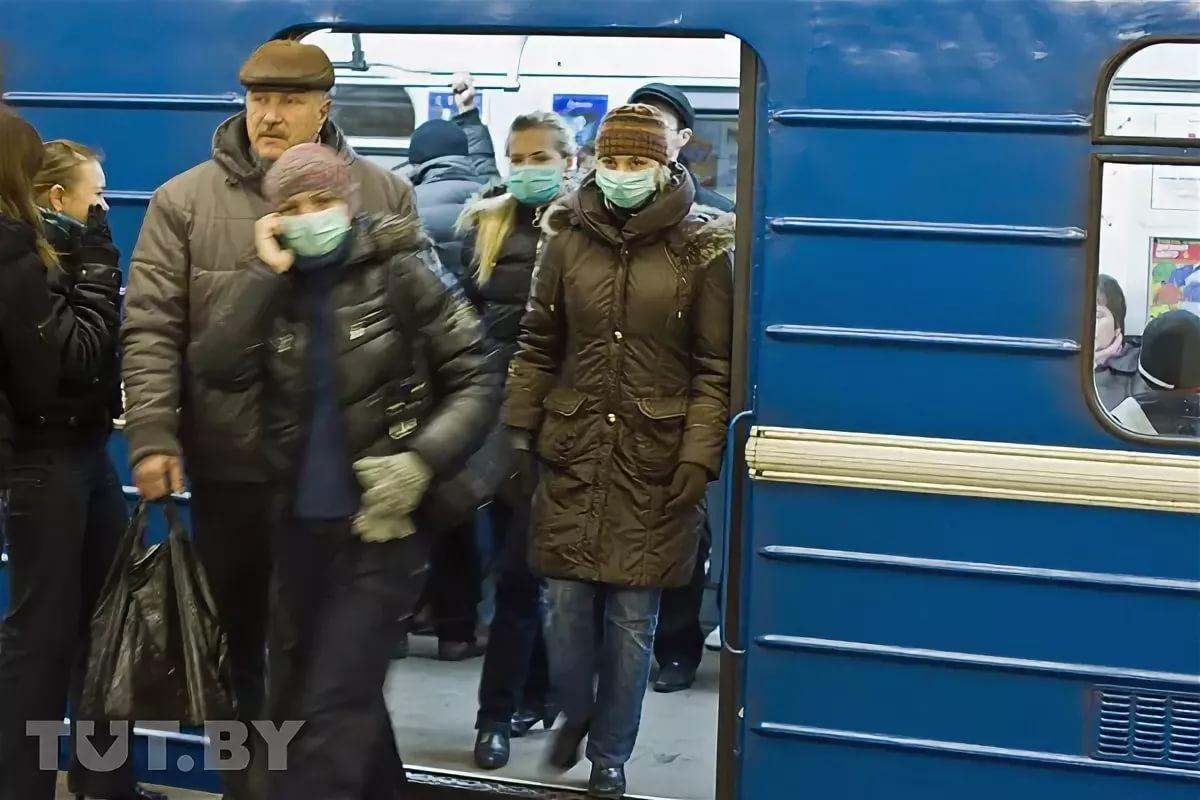mask: (267, 160, 353, 256), (595, 124, 669, 204), (507, 126, 568, 200)
none: (248, 64, 324, 154), (56, 155, 108, 228)
